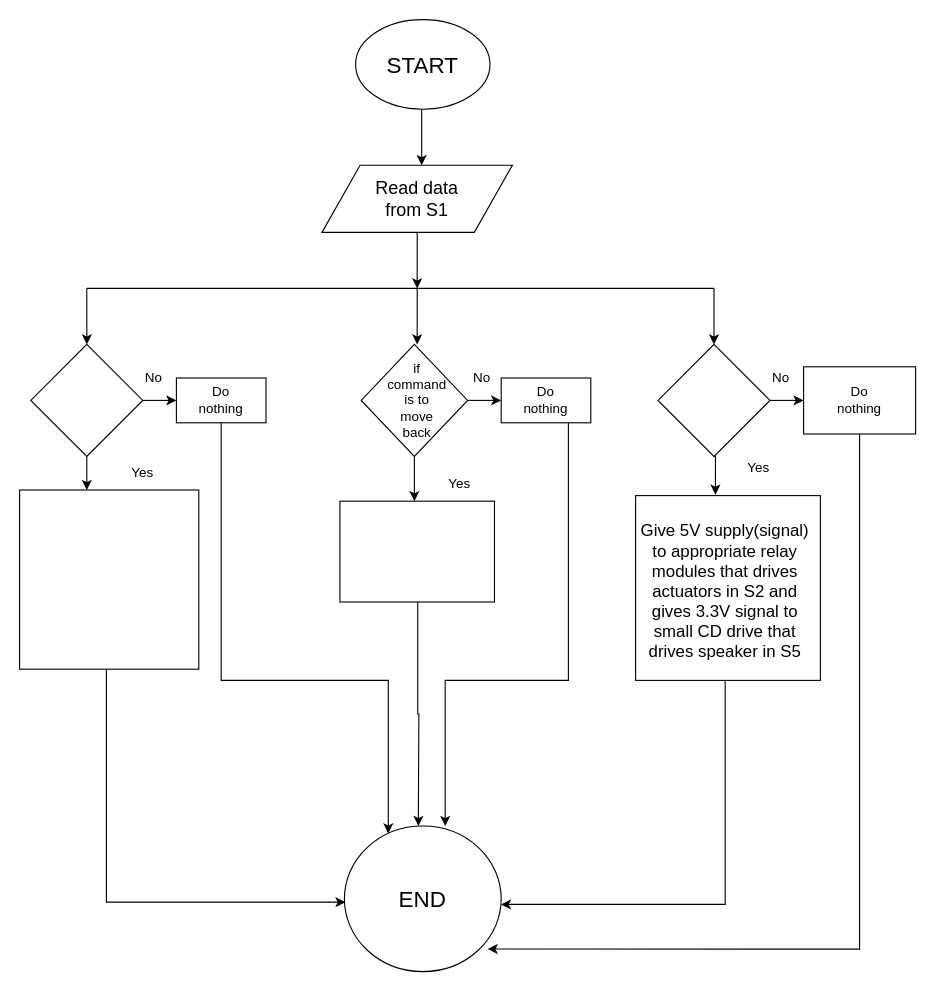
Some shapes in this 935 by 991 pixel diagram are drawn without their labels. Here are the shapes that lost their labels. From the top down, the box of each, then its label:
(30, 343, 143, 456): if command is to move front
(657, 343, 770, 456): if command is to jump and roar
(339, 500, 494, 602): Give 5v supply(signal) to appropriate relay module that drives actuators in S2
(18, 489, 199, 669): Give 5V supply to appropriate relay modules that drives actuators in S2
